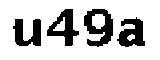4: (47, 6, 80, 49)
9: (80, 9, 114, 49)
a: (114, 17, 147, 48)
u: (10, 17, 45, 48)
